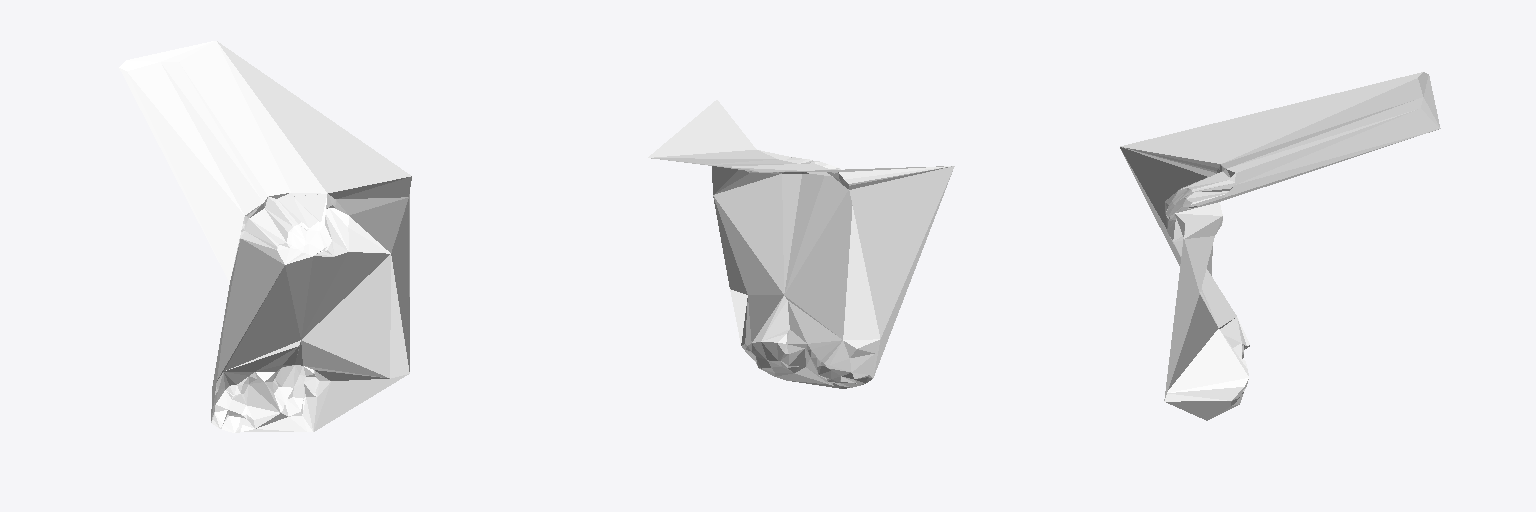
The model's file is statue.obj.
3 views of the same model, side by side, from view 1: azimuth 30°, elevation 25°; view 2: azimuth 150°, elevation 25°; view 3: azimuth 270°, elevation 25° (orthographic).
Size of the model in its own units: 0.5412 by 0.7509 by 0.7065.